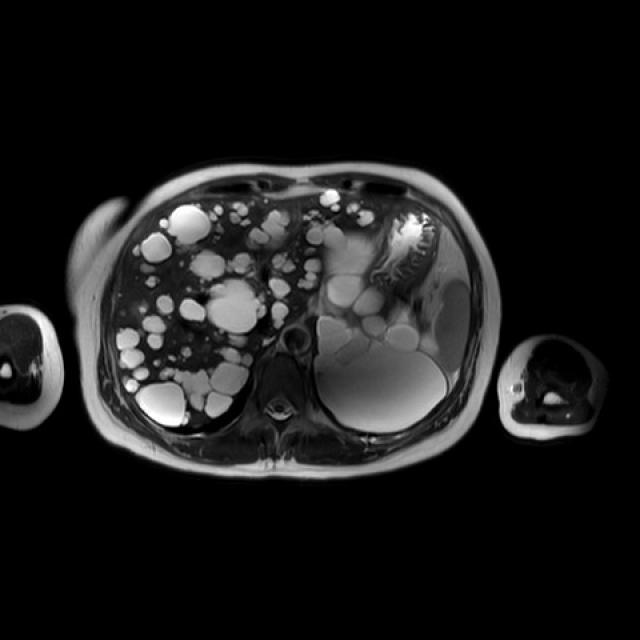sol: (319, 272, 445, 433)
